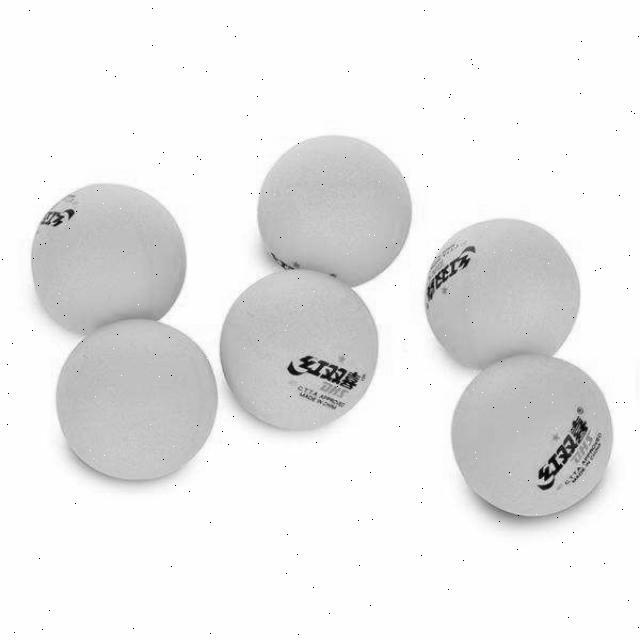ping-pong-ball: (48, 314, 221, 484), (213, 264, 381, 434), (446, 352, 614, 521), (417, 212, 585, 369), (28, 180, 191, 340), (252, 130, 414, 290)
